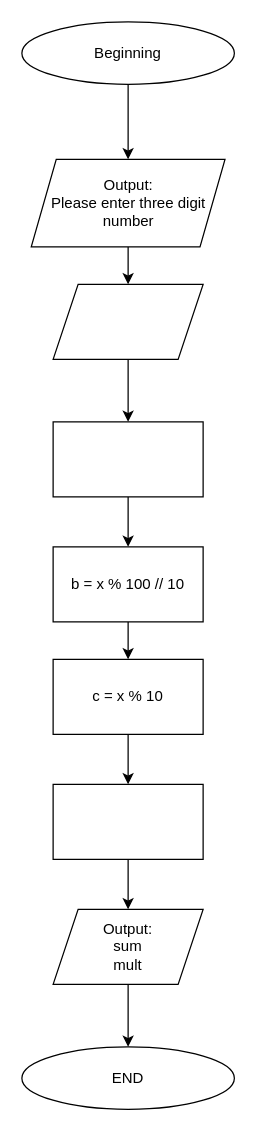
This 256x1131 diagram has some shape labels left out. The shapes that lost their labels are listed below. From the top down, each one's centre as x and y in pixels, then its label:
At (x=127, y=321): "Input: x".
At (x=127, y=459): "a = x // 100".
At (x=127, y=821): "sum = a + b + c mult = a * b * c".
